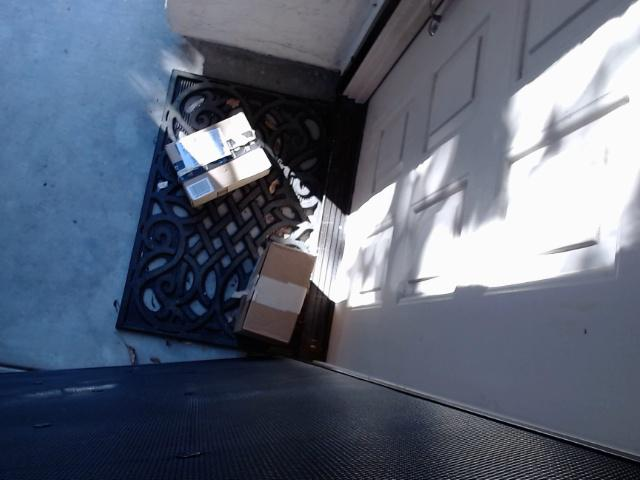box: (167, 111, 272, 209), (234, 240, 317, 347)
